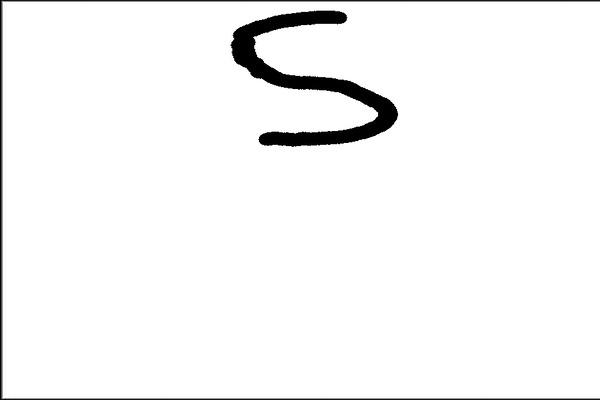S: (225, 7, 404, 153)
